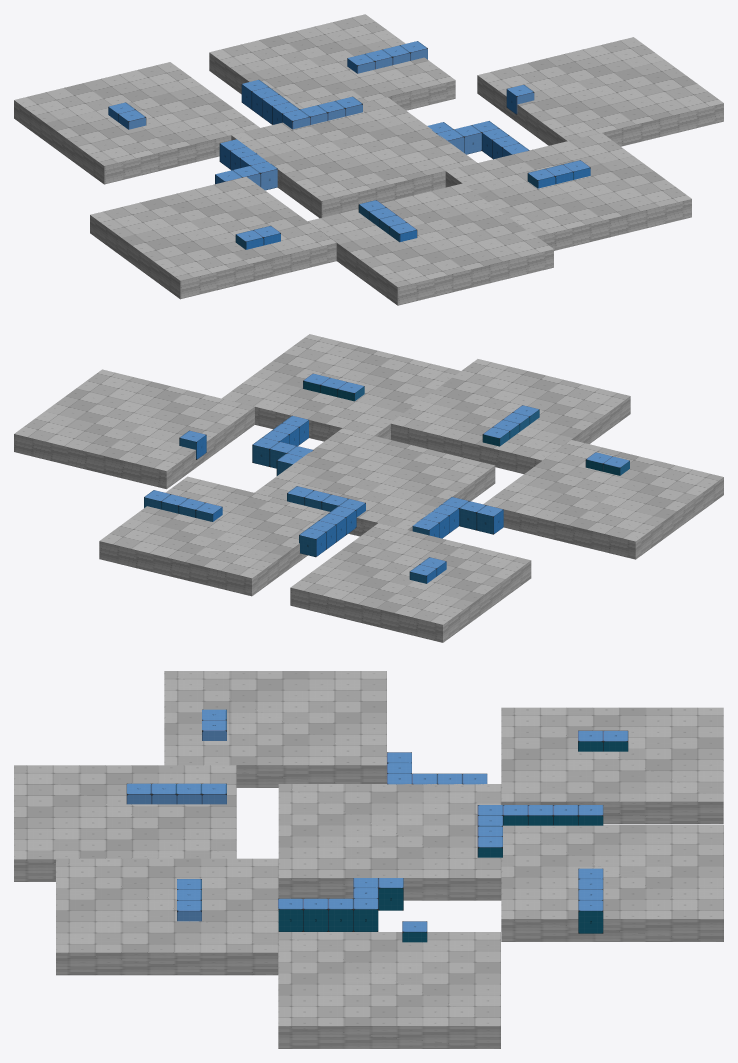
3 renders of one model, top to bottom at view 1: azimuth 30°, elevation 25°; view 2: azimuth 150°, elevation 25°; view 3: azimuth 270°, elevation 25°, orthographic. The views are drawn at different scales.
Parts seen in each view (by area): view 1: ground-phys.001, ground-phys.004, ground-phys.003, ground-phys.005, ground-phys, ground-phys.006, ground-phys.002, cube.phys-static.036, cube.phys-static.002, cube.phys-static.007; view 2: ground-phys.003, ground-phys.004, ground-phys.001, ground-phys.005, ground-phys.002, ground-phys.006, ground-phys, cube.phys-static.012, cube.phys-static.020, cube.phys-static.036, cube.phys-static.003, cube.phys-static.011; view 3: ground-phys.003, ground-phys.006, ground-phys.002, ground-phys, ground-phys.001, ground-phys.004, ground-phys.005, cube.phys-static.022, cube.phys-static.003, cube.phys-static.004, cube.phys-static, cube.phys-static.005 (+1 smaller).
Boxes of the visible parts, <box> form: ground-phys.001: <box>90,176,336,299</box>; ground-phys.004: <box>14,62,259,184</box>; ground-phys.003: <box>477,37,723,146</box>; ground-phys.005: <box>308,183,553,305</box>; ground-phys: <box>231,97,477,218</box>; ground-phys.006: <box>445,133,691,250</box>; ground-phys.002: <box>209,14,455,110</box>; cube.phys-static.036: <box>506,84,534,114</box>; cube.phys-static.002: <box>454,125,481,154</box>; cube.phys-static.007: <box>250,161,277,190</box>; ground-phys.003: <box>14,369,254,489</box>; ground-phys.004: <box>290,523,531,642</box>; ground-phys.001: <box>483,440,723,559</box>; ground-phys.005: <box>390,359,630,473</box>; ground-phys.002: <box>99,476,329,596</box>; ground-phys.006: <box>222,334,460,441</box>; ground-phys: <box>254,428,495,536</box>; cube.phys-static.012: <box>476,505,503,534</box>; cube.phys-static.020: <box>299,528,325,557</box>; cube.phys-static.036: <box>179,430,206,459</box>; cube.phys-static.003: <box>252,437,278,466</box>; cube.phys-static.011: <box>459,501,485,530</box>; ground-phys.003: <box>278,932,500,1048</box>; ground-phys.006: <box>56,858,278,975</box>; ground-phys.002: <box>501,825,723,941</box>; ground-phys: <box>278,784,501,900</box>; ground-phys.001: <box>164,671,386,787</box>; ground-phys.004: <box>501,707,723,824</box>; ground-phys.005: <box>14,765,236,881</box>; cube.phys-static.022: <box>578,900,603,933</box>; cube.phys-static.003: <box>353,898,378,931</box>; cube.phys-static.004: <box>328,898,353,931</box>; cube.phys-static: <box>378,878,403,910</box>; cube.phys-static.005: <box>303,898,327,931</box>.
Bounding box in the file's own units: 66.86 × 2.89 × 56.52.
Materials: 2 (2 with a texture image).
